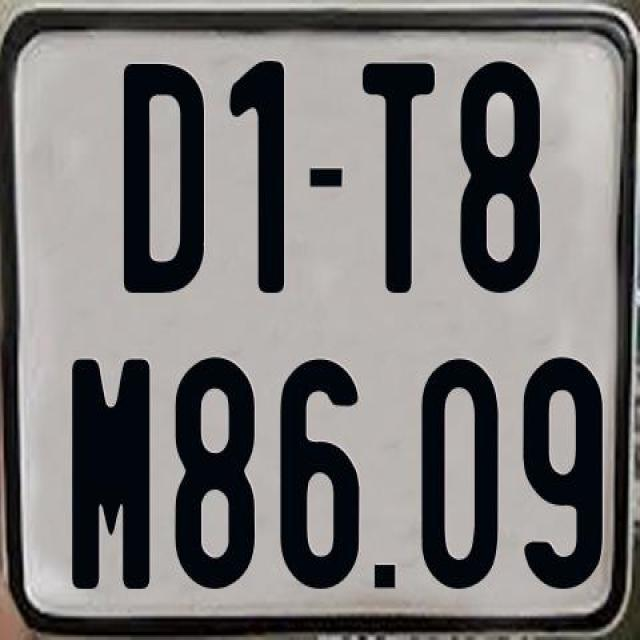0: (420, 358, 500, 589)
1: (228, 59, 287, 294)
6: (277, 357, 363, 589)
8: (172, 353, 260, 588), (460, 58, 546, 292)
9: (520, 356, 608, 596)
D: (120, 63, 207, 294)
M: (70, 355, 150, 586)
T: (362, 58, 439, 292)
